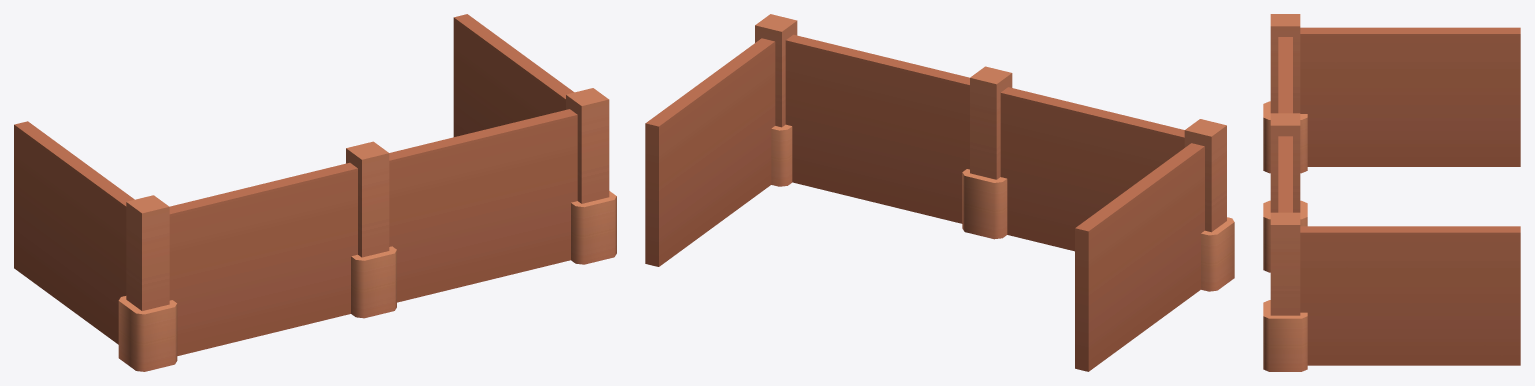
The model's file is sub-fence-1x2.glb.
The picture shows the model from 3 angles, left to right: view 1: azimuth 30°, elevation 25°; view 2: azimuth 150°, elevation 25°; view 3: azimuth 270°, elevation 25°; orthographic projection. The views are drawn at different scales.
Parts seen in each view (by area): view 1: fence-1x2; view 2: fence-1x2; view 3: fence-1x2.
Boxes of the visible parts, x1,y1,x2,y2 form: fence-1x2: (14, 14, 616, 371); fence-1x2: (645, 14, 1234, 371); fence-1x2: (1263, 14, 1520, 371).
Size of the model in its own units: 8.75 by 2.7 by 4.38.
Materials: 1 (1 with a texture image).
